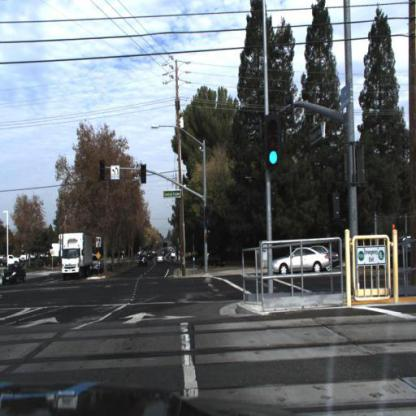car: (271, 248, 330, 277), (312, 242, 341, 274), (2, 262, 29, 285), (321, 245, 342, 274), (196, 251, 227, 269)
trafficLight: (141, 163, 149, 186), (204, 205, 212, 228), (140, 163, 148, 183)
trafficLight-Green: (264, 113, 282, 168)
truck: (59, 234, 94, 282)
